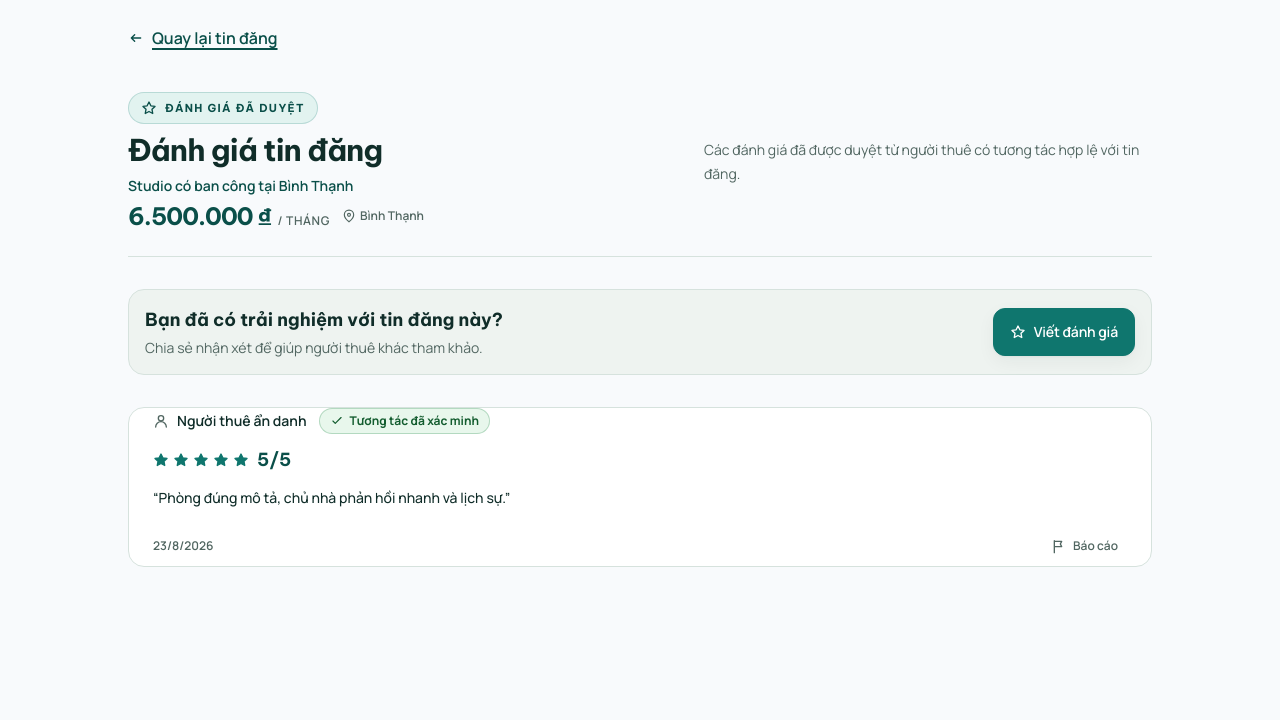
Test case: ListingReviewsPage › opens the existing review form only for an eligible tenant
Click the button "Viết đánh giá" at (1064, 332), box [993,308,1135,356]
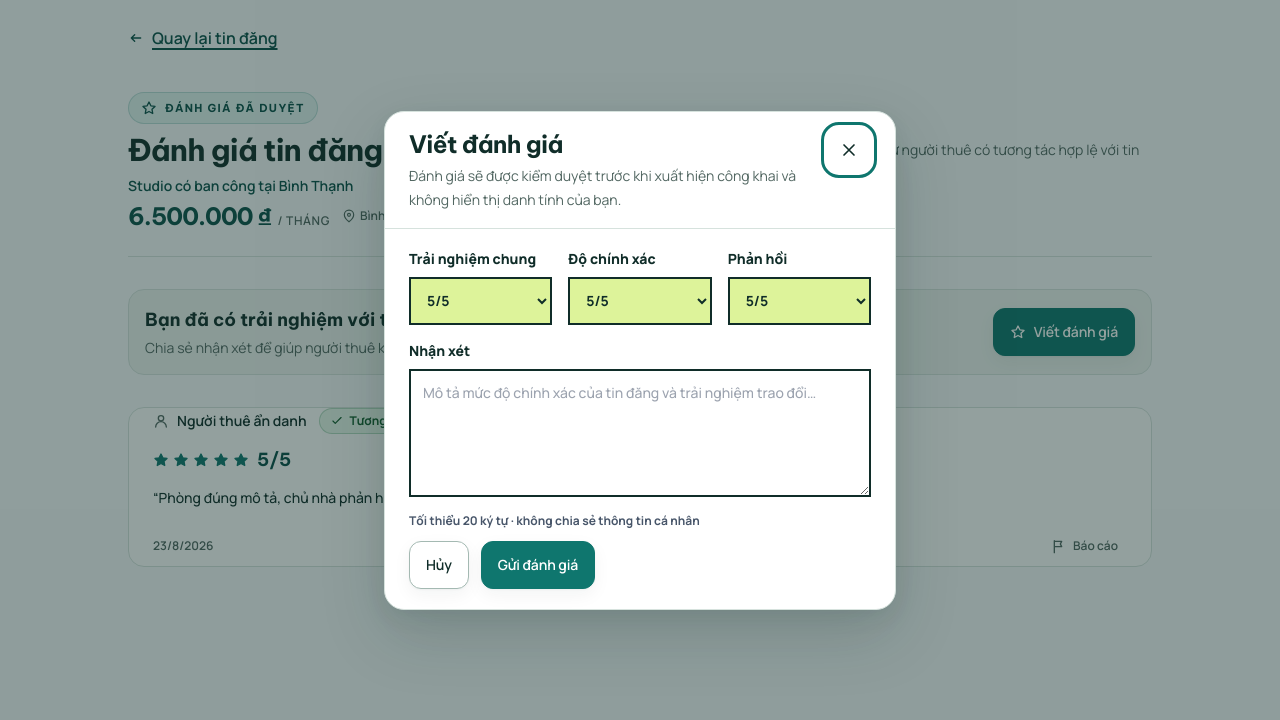
Check: the dialog is shown, box [384,110,896,610]
Check: the button "Gửi đánh giá" is shown, box [481,540,595,588]
